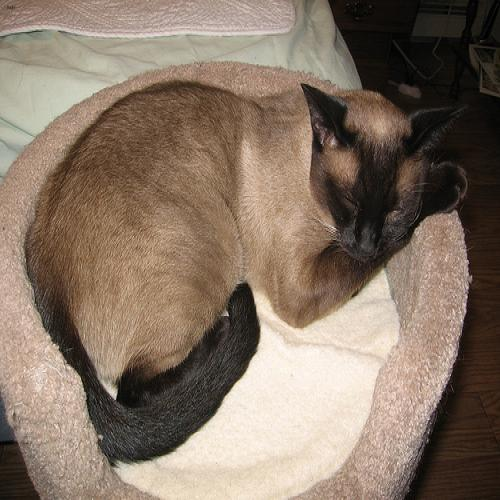siamese: (290, 62, 466, 261)
